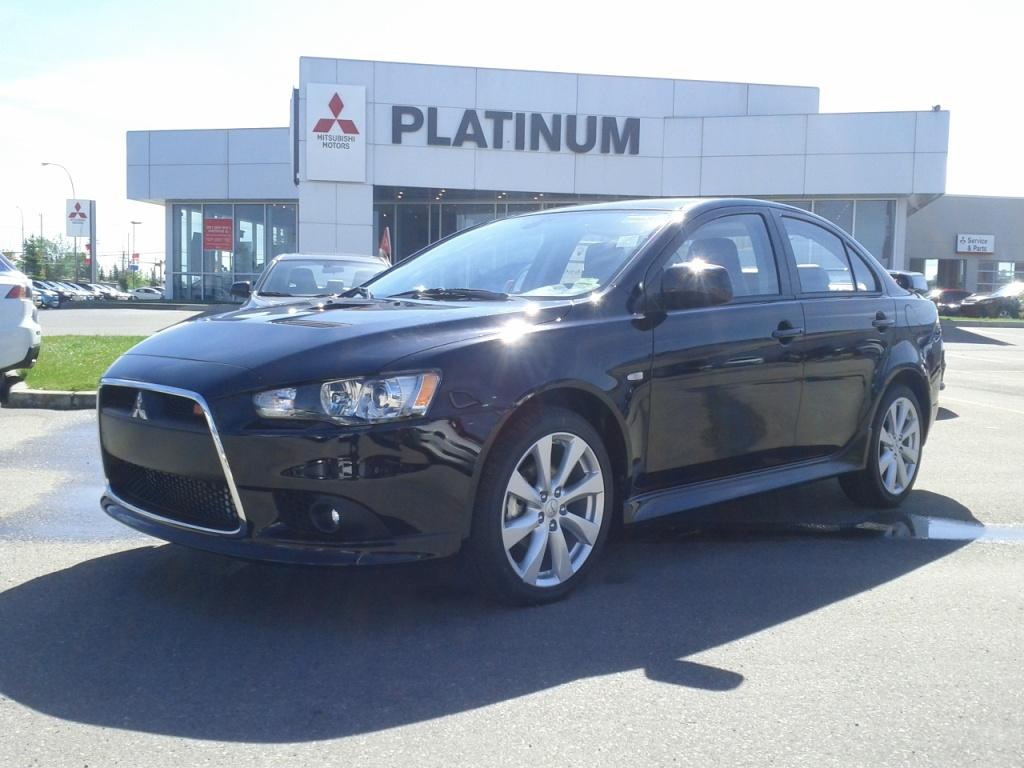Car: (52, 169, 975, 639)
